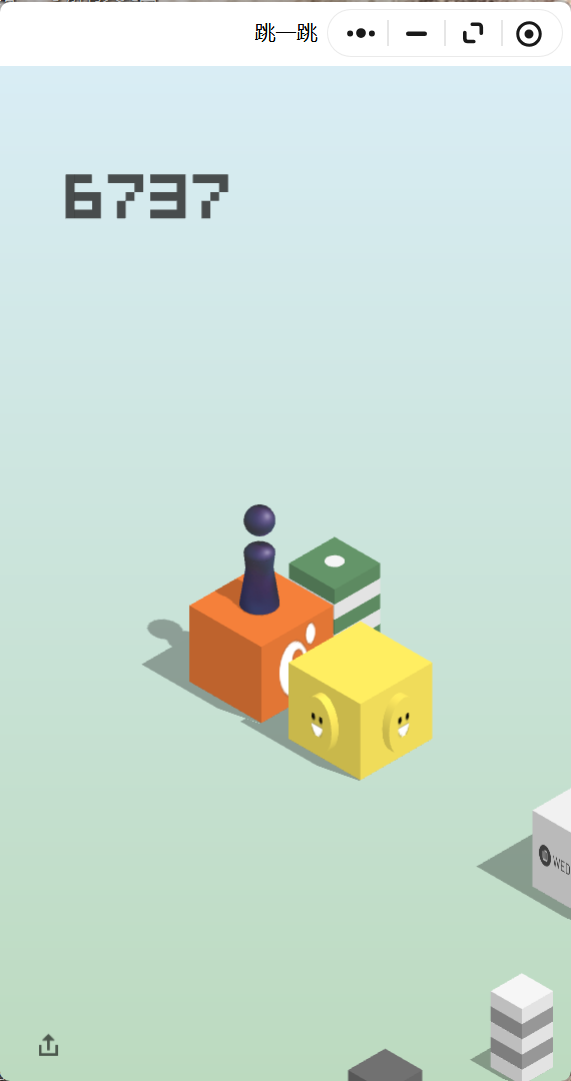piece: (243, 505, 275, 611)
target: (291, 538, 380, 587)
